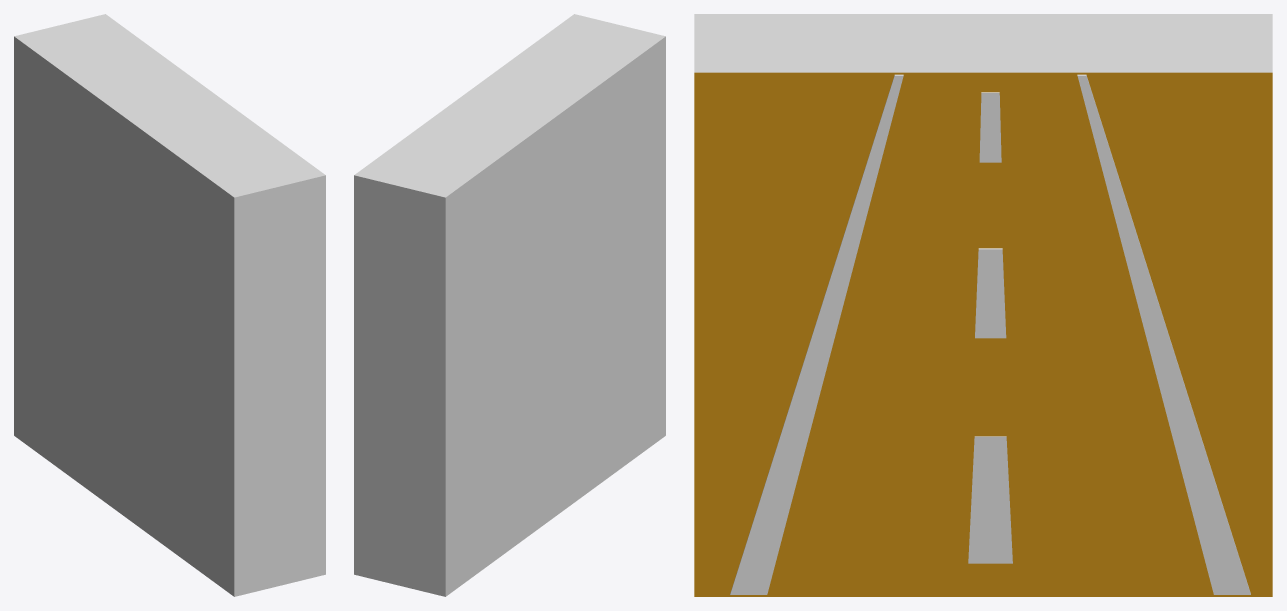
The model's file is IconRoadQualityMedium.fbx.
3 views of the same model, side by side, from view 1: azimuth 30°, elevation 25°; view 2: azimuth 150°, elevation 25°; view 3: azimuth 270°, elevation 25° (orthographic). The views are drawn at different scales.
Parts seen in each view (by area): view 1: Cube.020; view 2: Cube.020; view 3: Cube.020, Cube.019, Cube.018, Cube.017, Cube.016.
Part boxes in pixels (<box>): Cube.020: <box>14,14,325,596</box>; Cube.020: <box>354,14,665,596</box>; Cube.020: <box>694,14,1272,596</box>; Cube.019: <box>730,74,1250,594</box>; Cube.018: <box>968,436,1012,563</box>; Cube.017: <box>975,248,1006,338</box>; Cube.016: <box>979,92,1001,162</box>.
Size of the model in its own units: 114 by 466 by 466.
